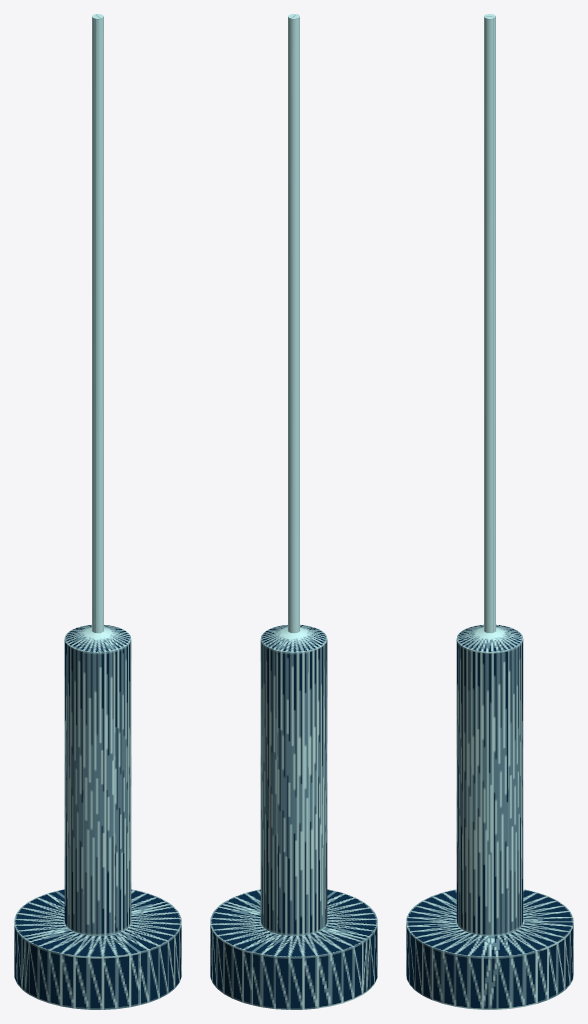
File: Extra-Ejector3-M.glb
3 views of the same model, side by side, from view 1: azimuth 30°, elevation 25°; view 2: azimuth 150°, elevation 25°; view 3: azimuth 270°, elevation 25° (orthographic).
Visible parts, largest first — view 1: ejector3.002, ejector3.001; view 2: ejector3.002, ejector3.001; view 3: ejector3.001, ejector3.002.
Part boxes in pixels (<box>): ejector3.002: <box>14,14,139,1009</box>; ejector3.001: <box>56,14,181,1004</box>; ejector3.002: <box>252,14,377,1009</box>; ejector3.001: <box>210,14,335,1004</box>; ejector3.001: <box>406,16,573,1009</box>; ejector3.002: <box>406,14,573,921</box>.
Bounding box in the file's own units: 0.4282 × 2.7 × 0.427.
1 material, 1 textured.
